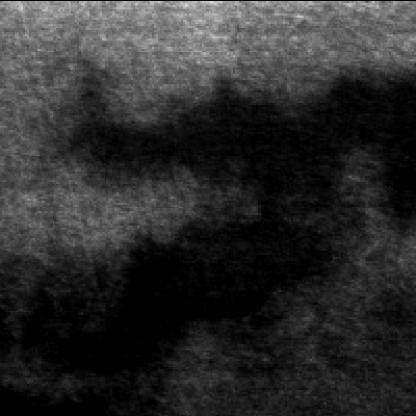patches: (17, 224, 308, 382), (66, 90, 412, 210)
